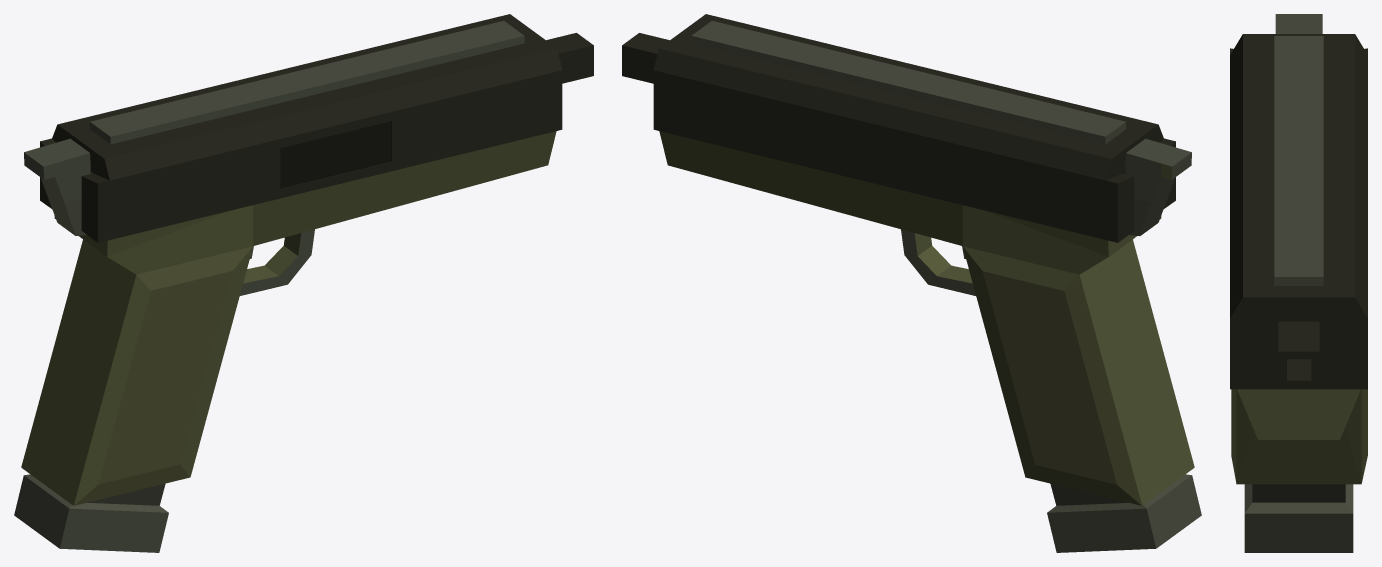
File: enforcer.glb
3 renders of one model, left to right at view 1: azimuth 30°, elevation 25°; view 2: azimuth 150°, elevation 25°; view 3: azimuth 270°, elevation 25°, orthographic. The views are drawn at different scales.
Visible parts, largest first — view 1: Body, ActionCycler, Cube; view 2: Body, ActionCycler, Cube; view 3: ActionCycler, Body, Cube.
Part boxes in pixels (<box>): Body: <box>21,33,593,505</box>; ActionCycler: <box>40,14,562,242</box>; Cube: <box>14,474,168,552</box>; Body: <box>622,33,1194,505</box>; ActionCycler: <box>653,14,1175,242</box>; Cube: <box>1047,474,1201,552</box>; ActionCycler: <box>1230,34,1367,389</box>; Body: <box>1231,14,1367,484</box>; Cube: <box>1244,484,1353,552</box>.
Bounding box in the file's own units: 0.7282 × 0.5247 × 0.1321.
Materials: 1 (1 with a texture image).
